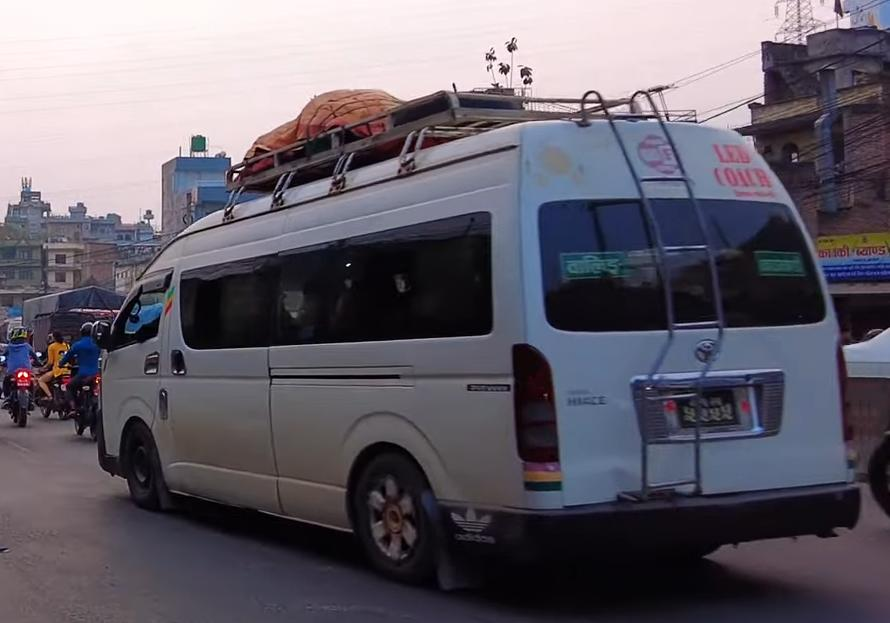bike: (5, 352, 41, 431)
micro_bus: (78, 86, 865, 589)
